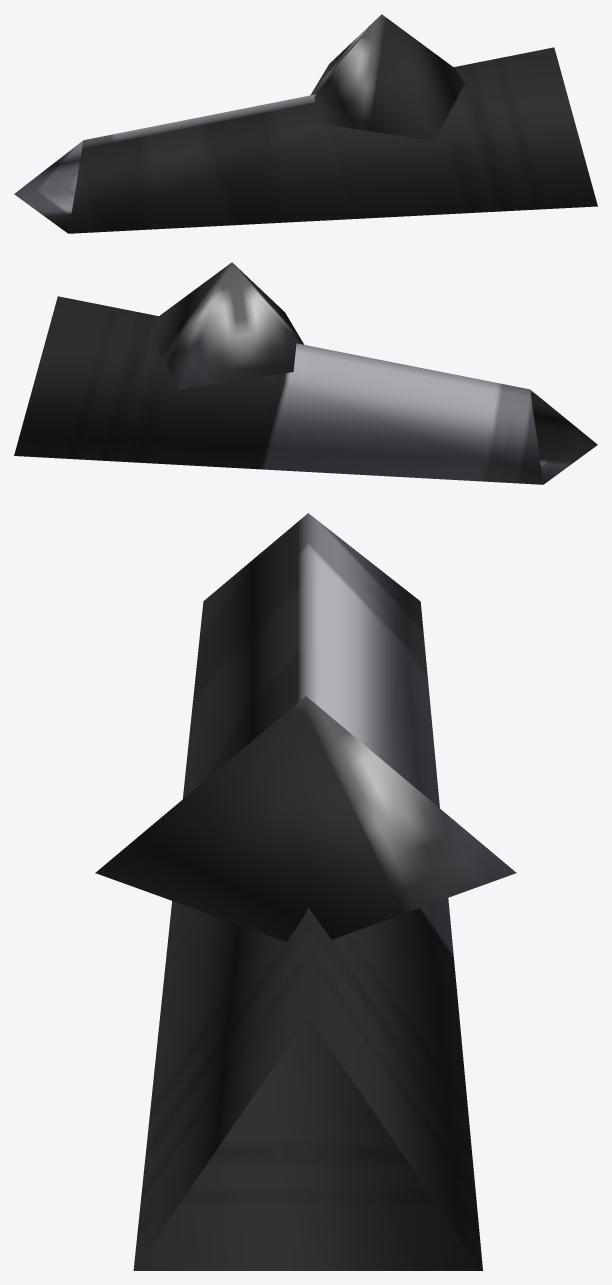
File: shaft_classic_LFr.dae
3 renders of one model, top to bottom at view 1: azimuth 30°, elevation 25°; view 2: azimuth 150°, elevation 25°; view 3: azimuth 270°, elevation 25°, orthographic. The views are drawn at different scales.
Visible parts, largest first — view 1: _0_0_node; view 2: _0_0_node; view 3: _0_0_node.
Part boxes in pixels (left/top/right/bottom): _0_0_node: left=14, top=14, right=597, bottom=233; _0_0_node: left=14, top=262, right=597, bottom=484; _0_0_node: left=95, top=513, right=516, bottom=1270.
Bounding box in the file's own units: 4.85 × 1.84 × 1.73.
1 material, 1 textured.
